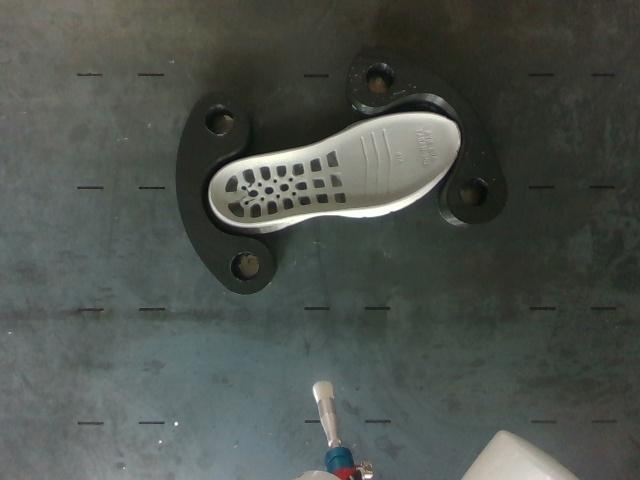shoes: (209, 113, 458, 225)
